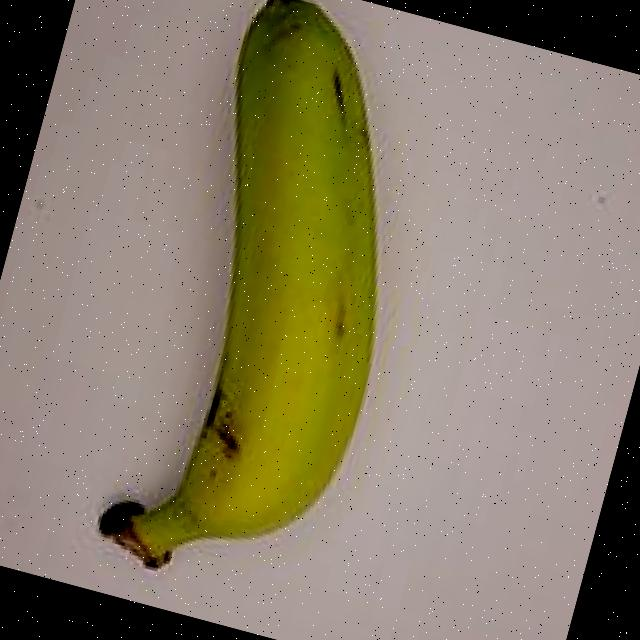Unripe: (12, 0, 483, 635)
